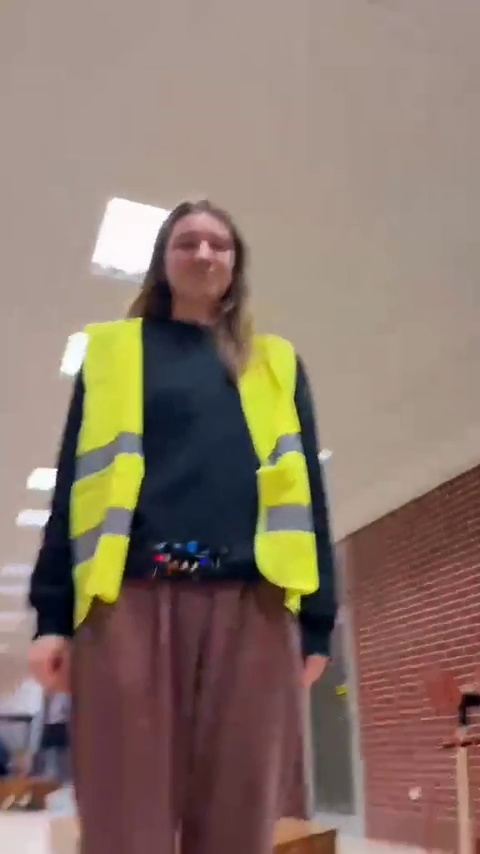drone: (138, 538, 246, 581)
vest: (41, 199, 340, 845)
